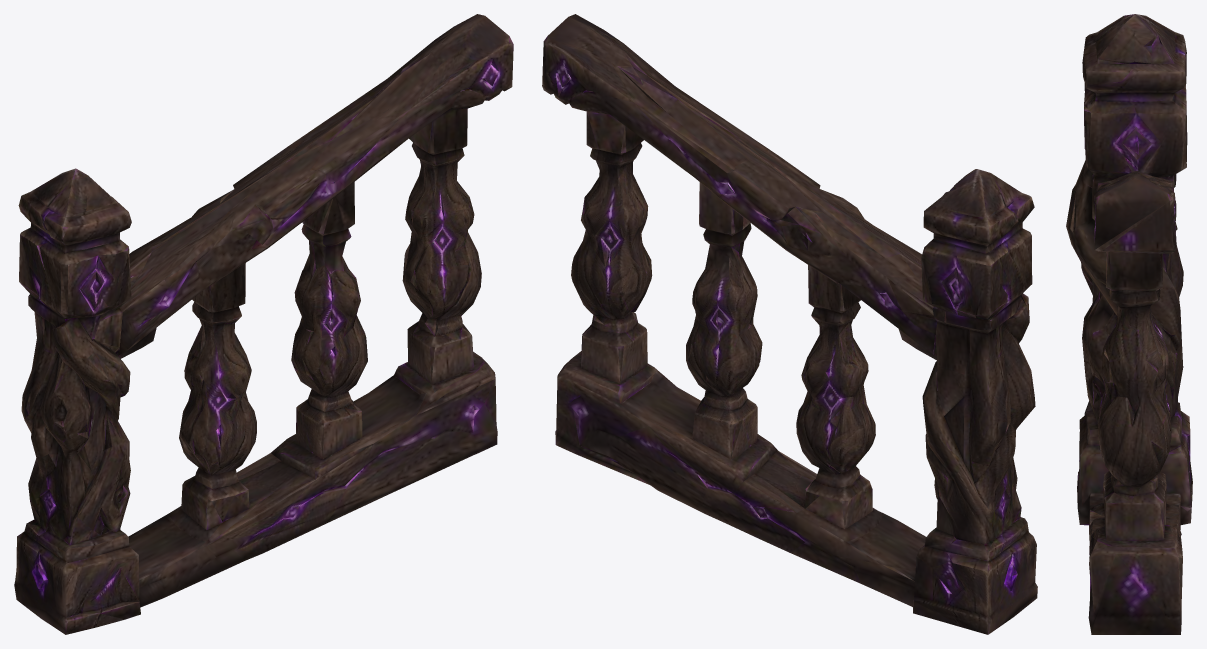
File: throne-railing.glb
3 renders of one model, left to right at view 1: azimuth 30°, elevation 25°; view 2: azimuth 150°, elevation 25°; view 3: azimuth 270°, elevation 25°, orthographic. The views are drawn at different scales.
Parts seen in each view (by area): view 1: mesh_0; view 2: mesh_0; view 3: mesh_0.
Boxes of the visible parts, x1=… form: mesh_0: x1=14, y1=14, x2=513, y2=634; mesh_0: x1=542, y1=14, x2=1037, y2=634; mesh_0: x1=1066, y1=14, x2=1192, y2=634.
Size of the model in its own units: 1.97 by 2 by 0.4172.
Materials: 1 (1 with a texture image).
